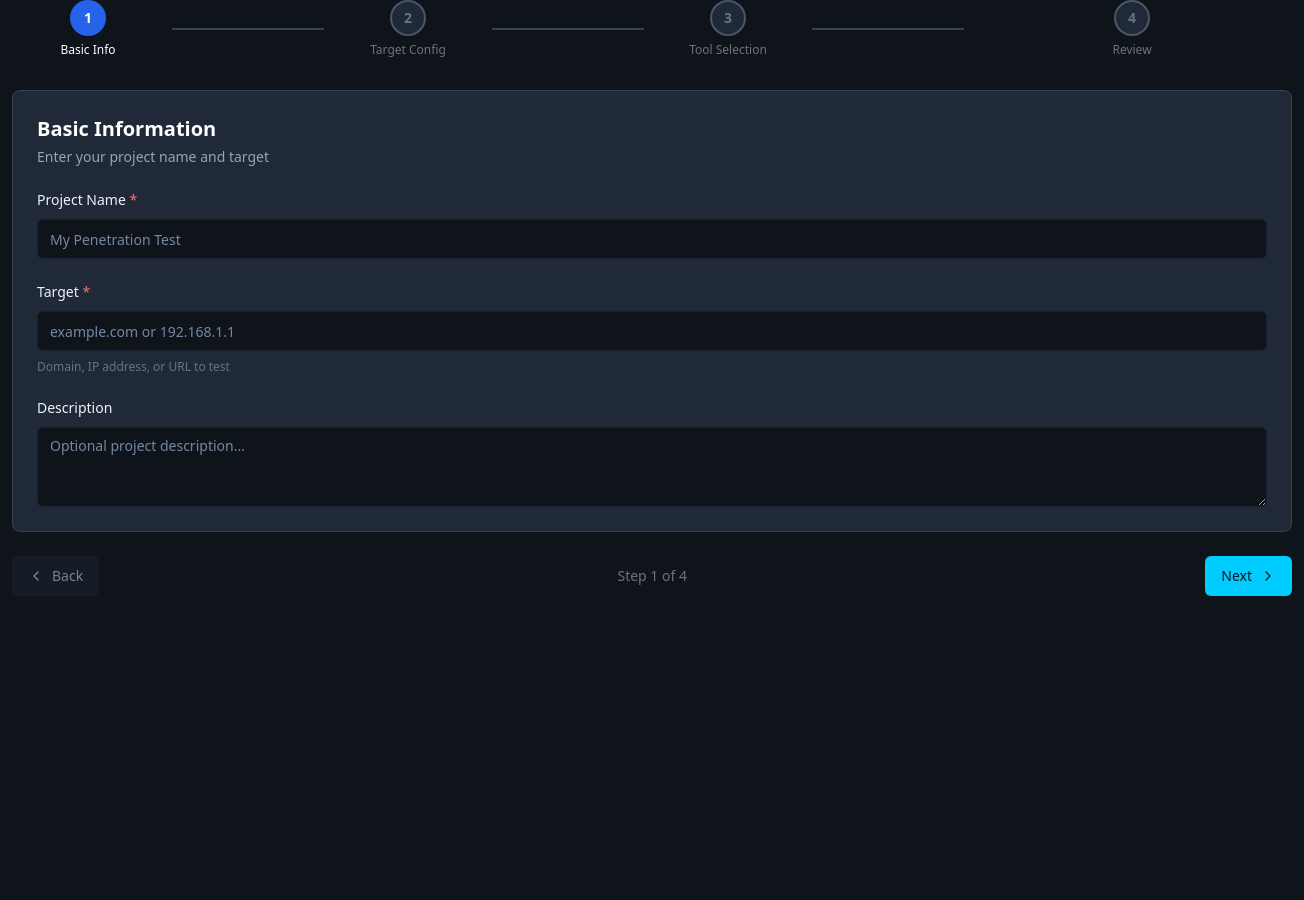
Scenario: ProjectWizard › blocks Next when name/target are empty on step 1
Click the button with aria-label "go to next step". click: [1249, 576]
box: [1205,556,1292,596]
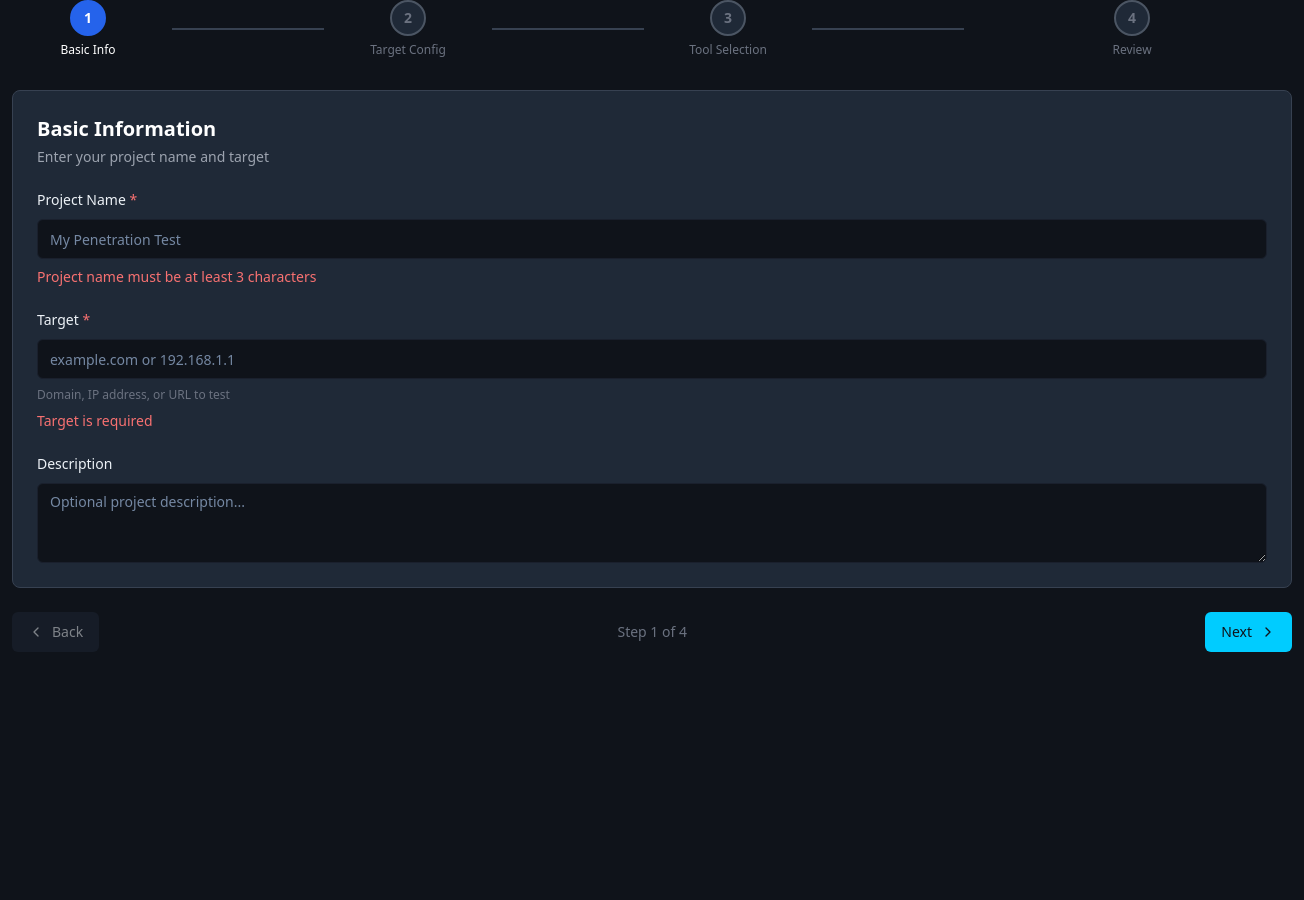
Check: the text "Project name must be at least 3 characters" is shown, box [37,267,316,286]
